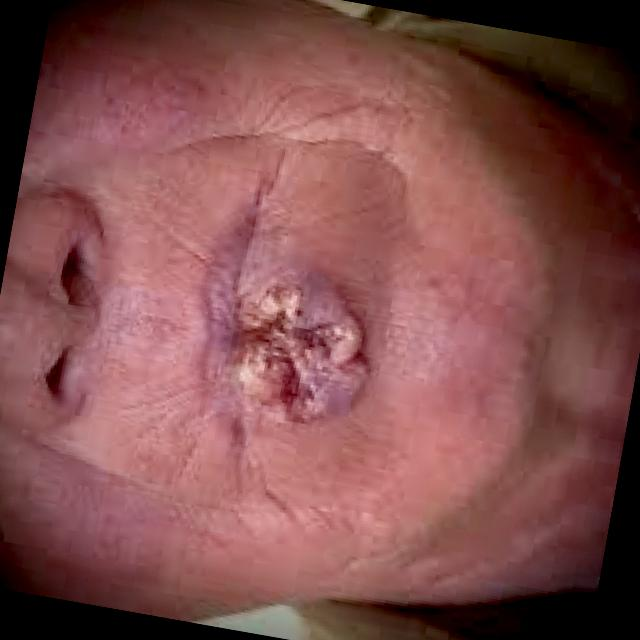Cancer: (178, 226, 416, 468)
